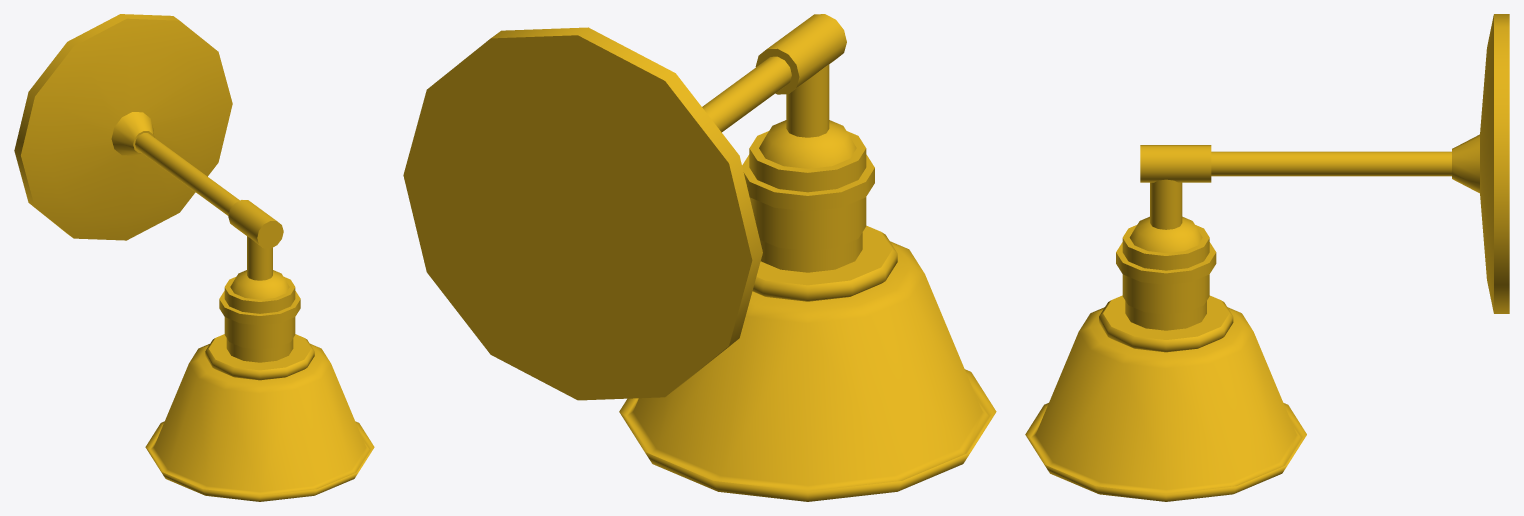
The model's file is CTS_E_CabinLightB.fbx.
The picture shows the model from 3 angles, left to right: view 1: azimuth 30°, elevation 25°; view 2: azimuth 150°, elevation 25°; view 3: azimuth 270°, elevation 25°; orthographic projection. The views are drawn at different scales.
Parts seen in each view (by area): view 1: CTS_E_CabinLightB; view 2: CTS_E_CabinLightB; view 3: CTS_E_CabinLightB.
Part boxes in pixels (x1=…): CTS_E_CabinLightB: x1=14, y1=14, x2=374, y2=501; CTS_E_CabinLightB: x1=403, y1=14, x2=996, y2=501; CTS_E_CabinLightB: x1=1025, y1=14, x2=1509, y2=501.
Size of the model in its own units: 36.5 by 55.89 by 58.76.
